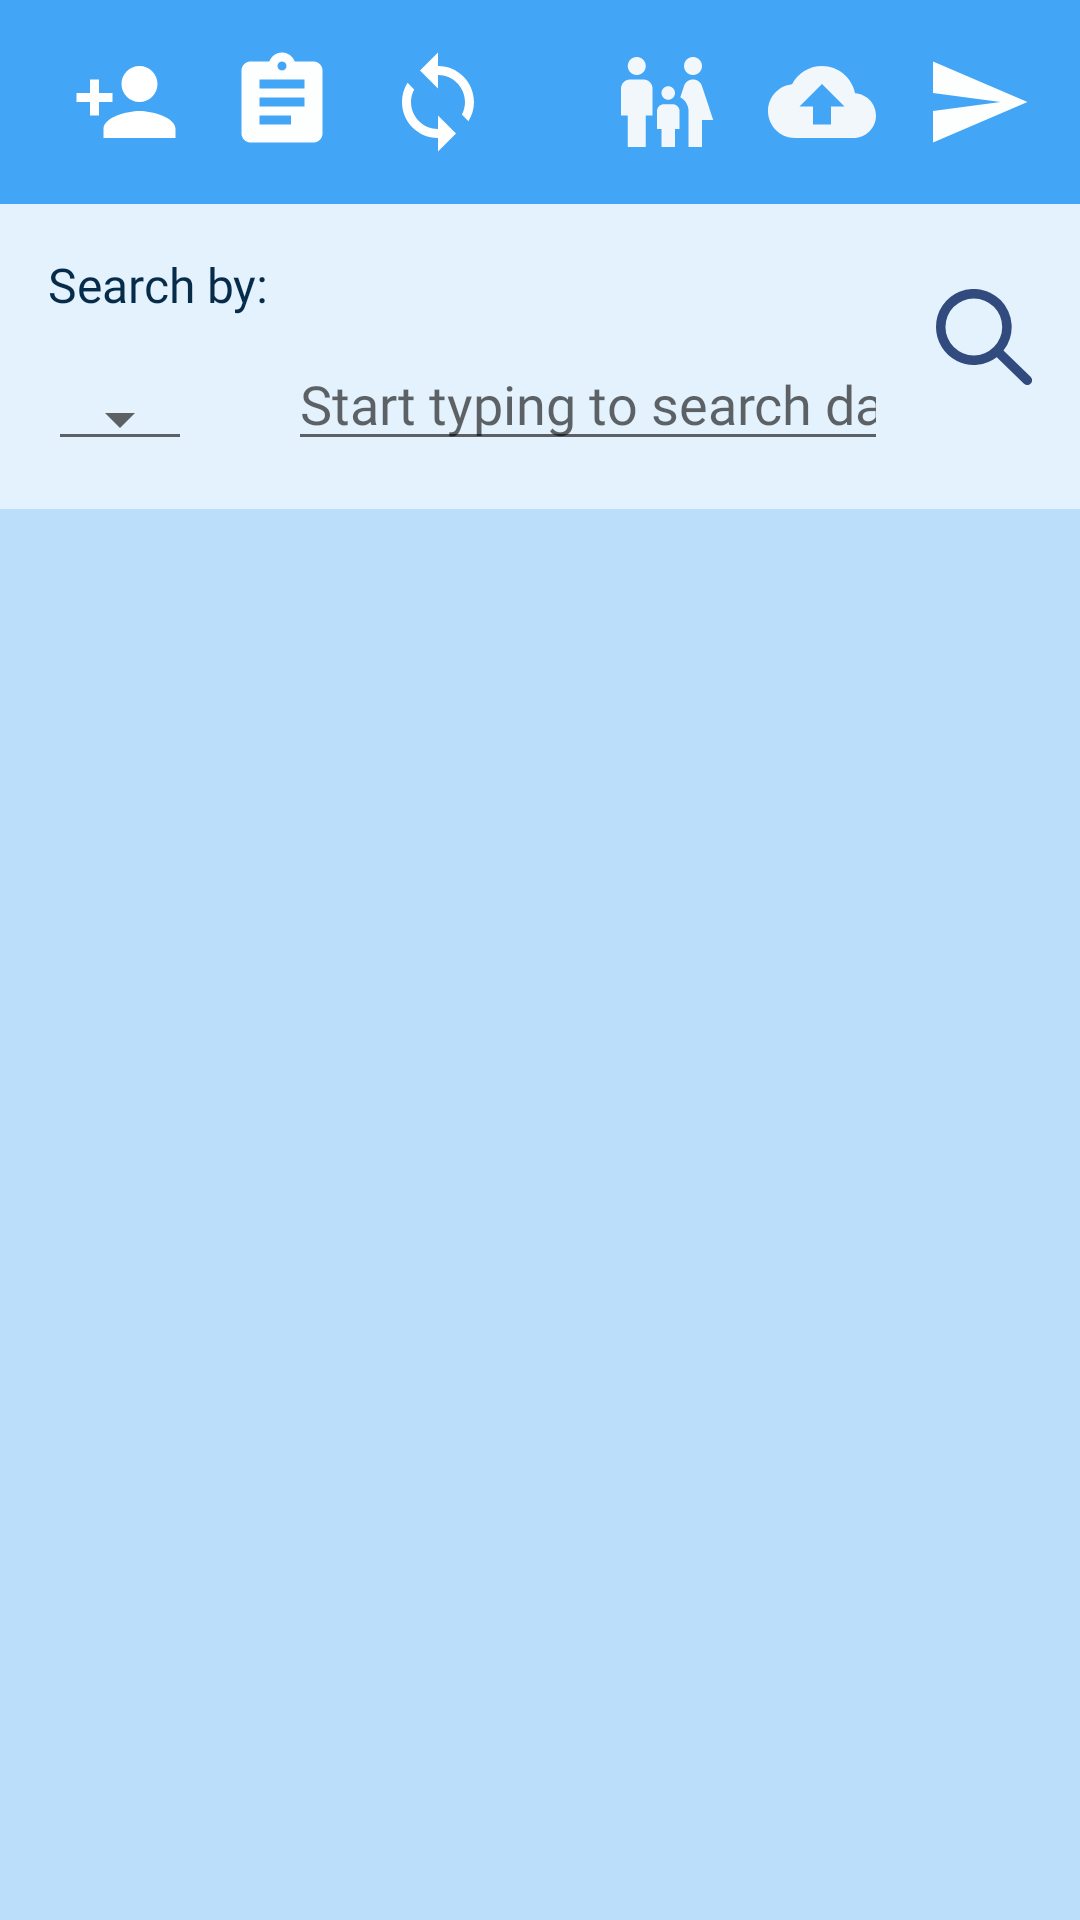

Screen size 1080*1920. Icon name, then its box in pixels as [x1=x1, y1=y1, x2=x2, y2=y2]:
cloud upload: [x1=768, y1=66, x2=876, y2=138]
family clip: [x1=621, y1=57, x2=713, y2=147]
person add: [x1=76, y1=66, x2=176, y2=138]
send report: [x1=933, y1=61, x2=1027, y2=143]
sync: [x1=402, y1=53, x2=474, y2=151]
